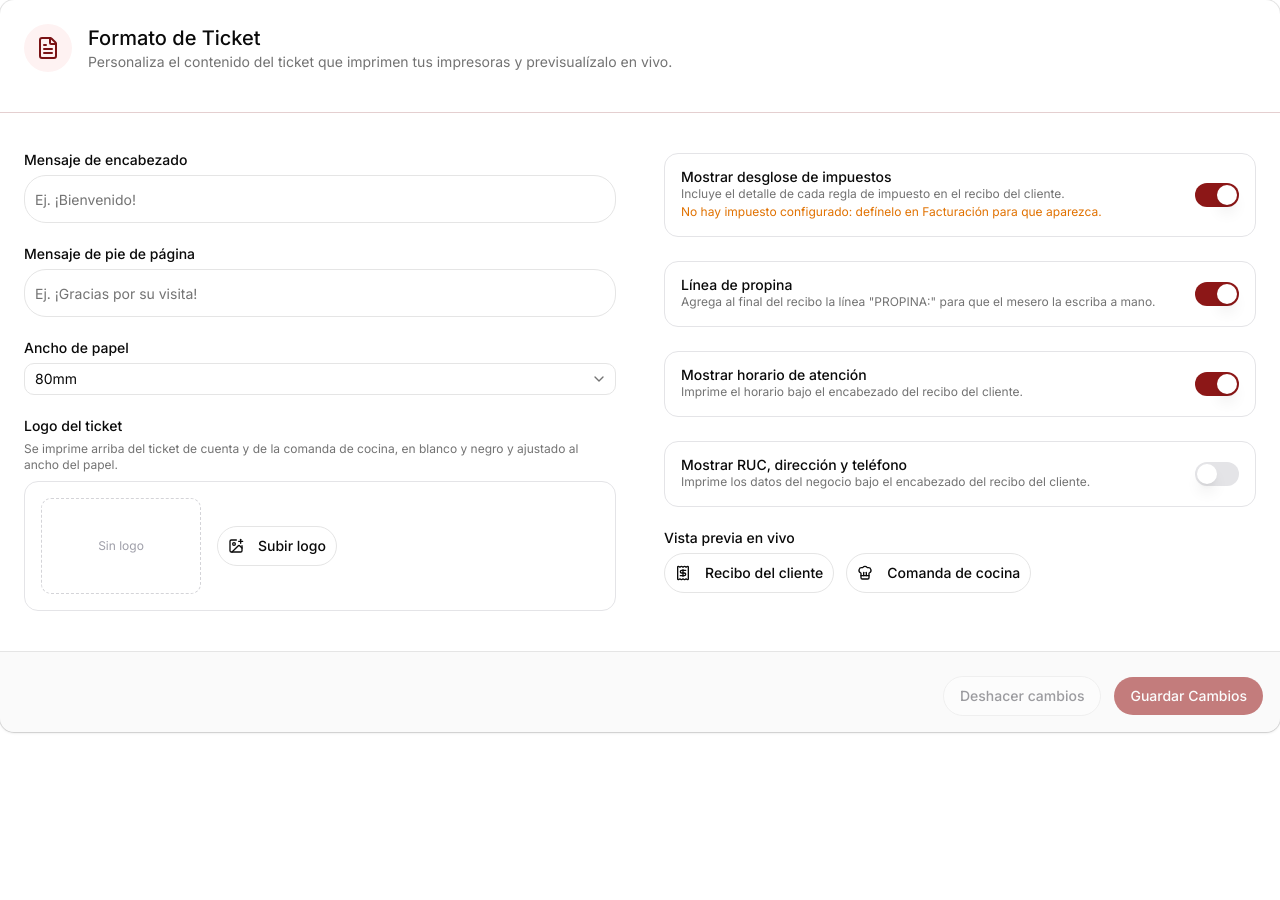
Test case: TicketSettings business info in the receipt preview › switching the hours toggle off removes them from the preview
Click the switch named "Mostrar horario de atención" in the row of "Mostrar horario de atención".
click(1217, 384)  # box [1195,372,1239,396]
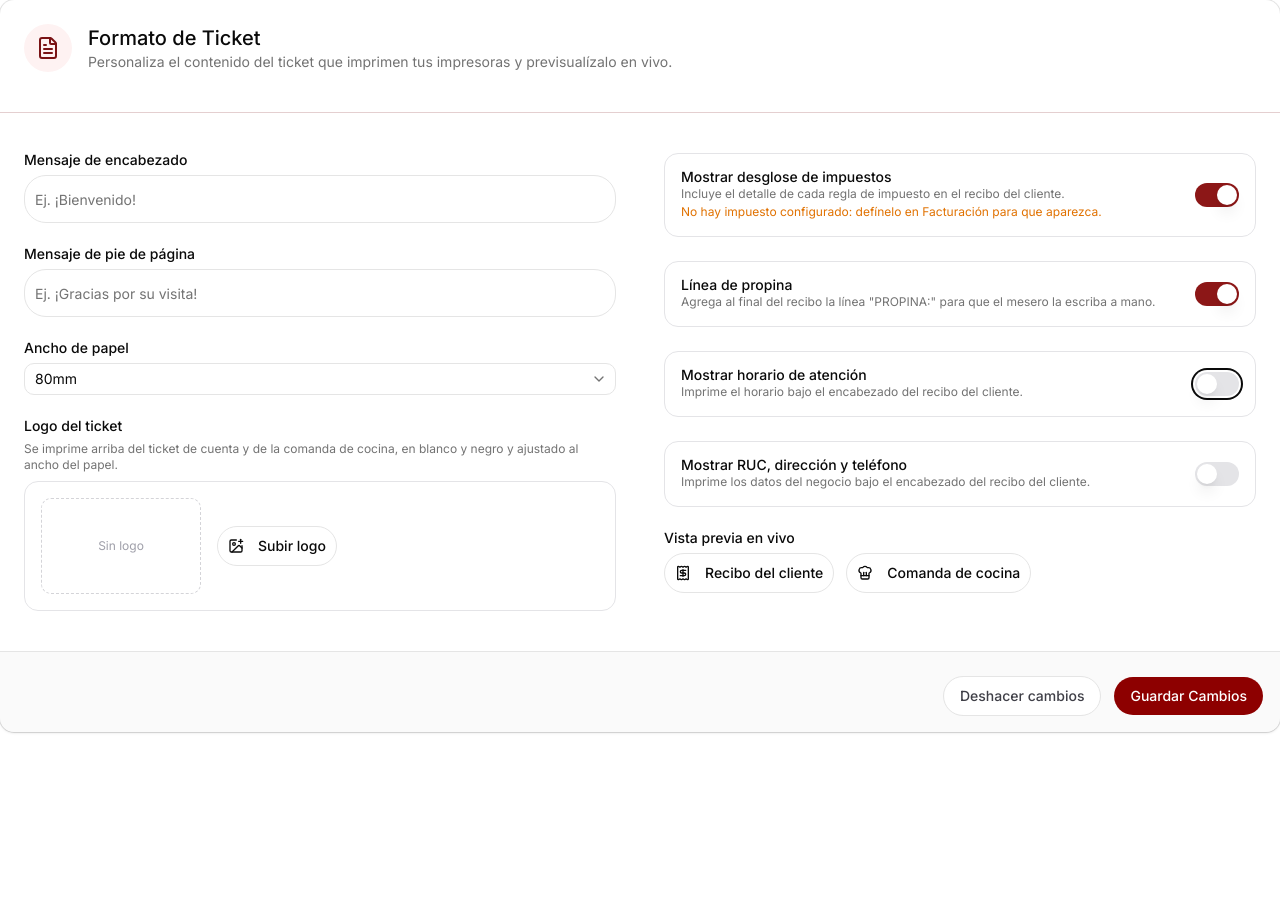
Click the button "Recibo del cliente".
click(749, 573)  # box [664,553,834,593]
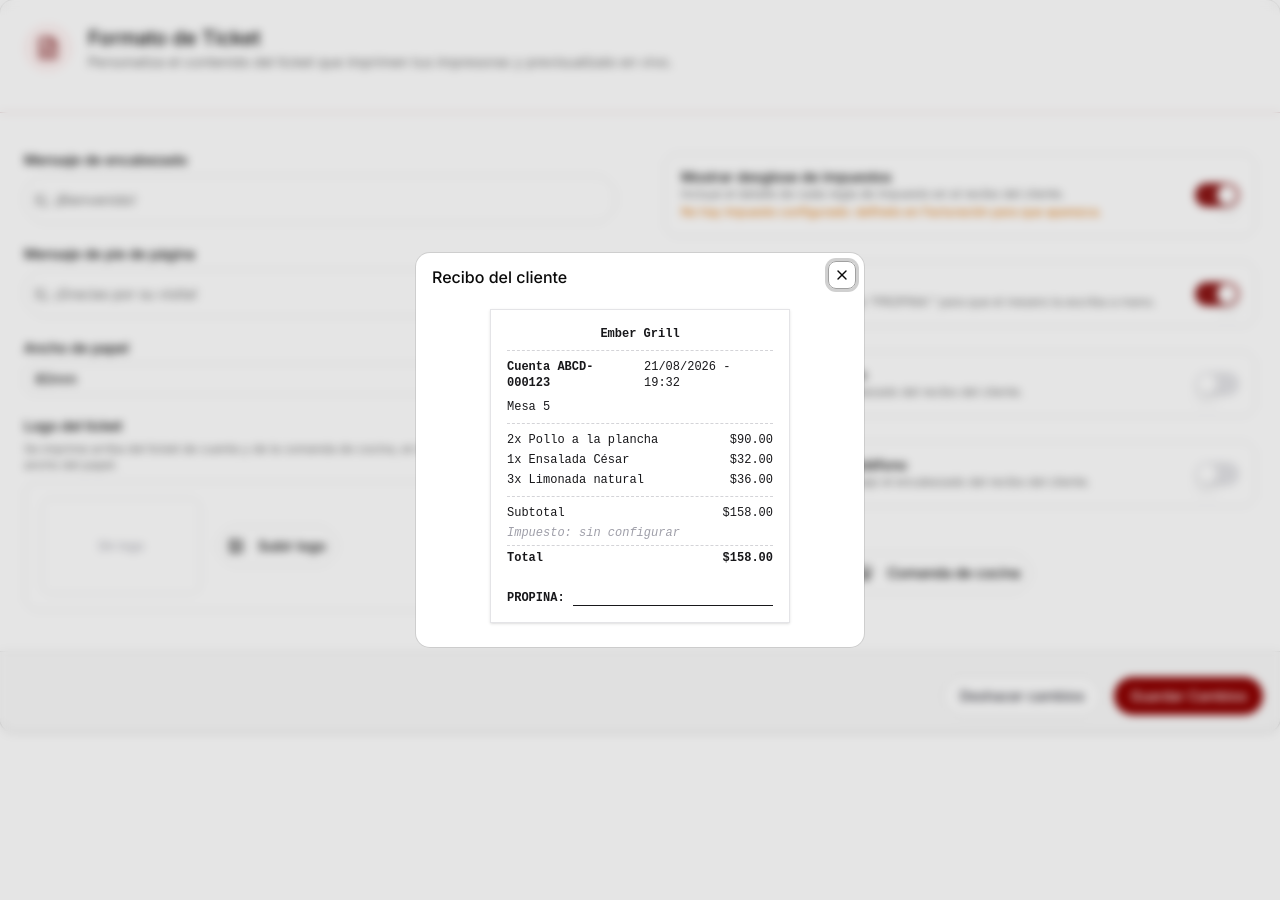
Check: the text "Ember Grill" is shown, box [600,327,680,341]
